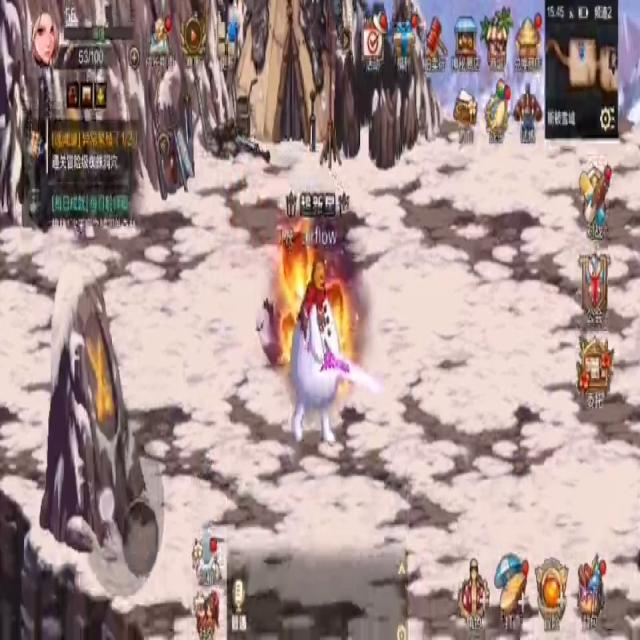player: (289, 254, 351, 450)
